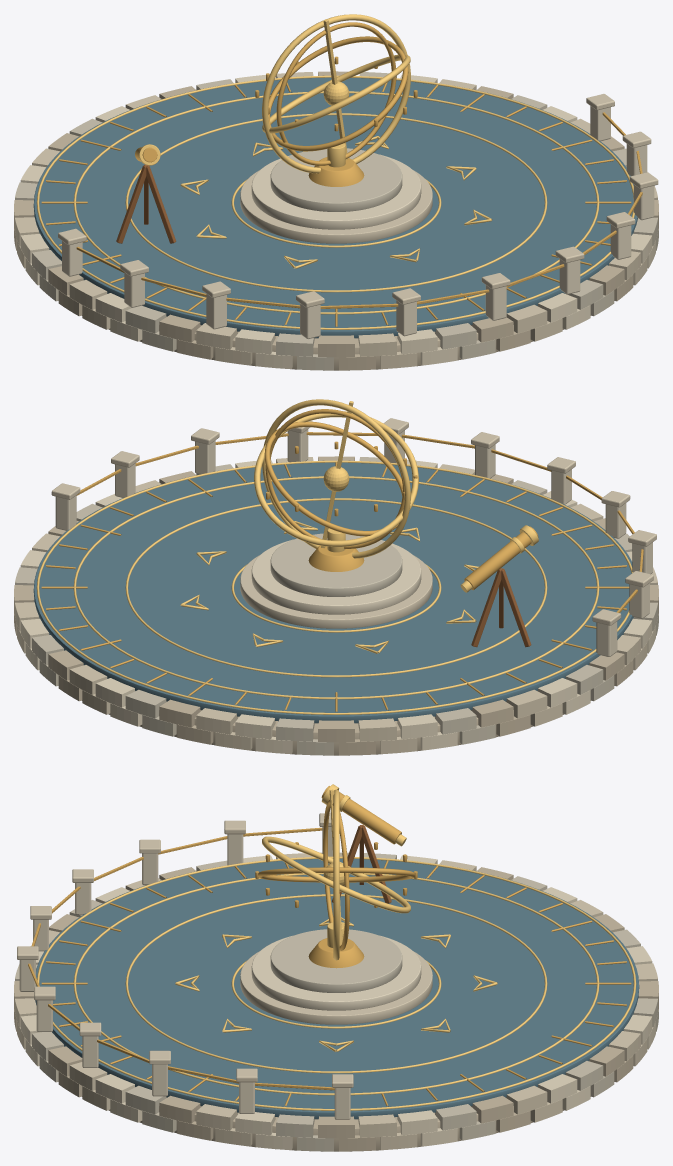
File: observatory.fbx
The picture shows the model from 3 angles, top to bottom: view 1: azimuth 30°, elevation 25°; view 2: azimuth 150°, elevation 25°; view 3: azimuth 270°, elevation 25°; orthographic projection.
Visible parts, largest first — view 1: observatory • Zodiac • slate blue inlay, observatory • Limestone • course 2.002, observatory • Brass • bright fittings.002, observatory • Limestone • course 1.002, observatory • Limestone • course 3.002, observatory • Brass • warm frames.002, observatory • Limestone • course 0.002, observatory • Timber • warm oak.002; view 2: observatory • Zodiac • slate blue inlay, observatory • Limestone • course 2.002, observatory • Brass • bright fittings.002, observatory • Limestone • course 1.002, observatory • Limestone • course 3.002, observatory • Brass • warm frames.002, observatory • Limestone • course 0.002, observatory • Timber • warm oak.002; view 3: observatory • Zodiac • slate blue inlay, observatory • Limestone • course 2.002, observatory • Brass • bright fittings.002, observatory • Limestone • course 1.002, observatory • Limestone • course 3.002, observatory • Brass • warm frames.002, observatory • Limestone • course 0.002, observatory • Timber • warm oak.002.
Part boxes in pixels (x1=…): observatory • Zodiac • slate blue inlay: x1=33, y1=77, x2=637, y2=338; observatory • Limestone • course 2.002: x1=20, y1=74, x2=655, y2=369; observatory • Brass • bright fittings.002: x1=36, y1=14, x2=634, y2=329; observatory • Limestone • course 1.002: x1=15, y1=72, x2=658, y2=369; observatory • Limestone • course 3.002: x1=15, y1=72, x2=658, y2=370; observatory • Brass • warm frames.002: x1=41, y1=22, x2=642, y2=327; observatory • Limestone • course 0.002: x1=14, y1=71, x2=658, y2=370; observatory • Timber • warm oak.002: x1=116, y1=164, x2=176, y2=243; observatory • Zodiac • slate blue inlay: x1=33, y1=462, x2=633, y2=723; observatory • Limestone • course 2.002: x1=20, y1=429, x2=655, y2=754; observatory • Brass • bright fittings.002: x1=36, y1=399, x2=632, y2=714; observatory • Limestone • course 1.002: x1=15, y1=418, x2=657, y2=754; observatory • Limestone • course 3.002: x1=15, y1=457, x2=658, y2=755; observatory • Brass • warm frames.002: x1=41, y1=409, x2=643, y2=712; observatory • Limestone • course 0.002: x1=14, y1=456, x2=658, y2=755; observatory • Timber • warm oak.002: x1=471, y1=568, x2=531, y2=647; observatory • Zodiac • slate blue inlay: x1=35, y1=858, x2=639, y2=1119; observatory • Limestone • course 2.002: x1=19, y1=827, x2=655, y2=1150; observatory • Brass • bright fittings.002: x1=37, y1=784, x2=636, y2=1110; observatory • Limestone • course 1.002: x1=15, y1=813, x2=657, y2=1150; observatory • Limestone • course 3.002: x1=15, y1=853, x2=658, y2=1151; observatory • Brass • warm frames.002: x1=28, y1=786, x2=631, y2=1106; observatory • Limestone • course 0.002: x1=14, y1=852, x2=658, y2=1151; observatory • Timber • warm oak.002: x1=332, y1=825, x2=391, y2=903.
Bounding box in the file's own units: 14 × 5.33 × 14.
